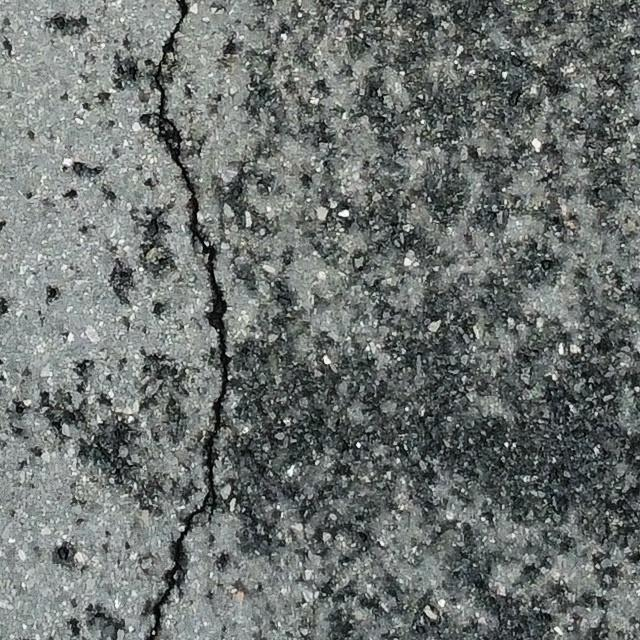LongitudinalCrack: (143, 1, 231, 640)
